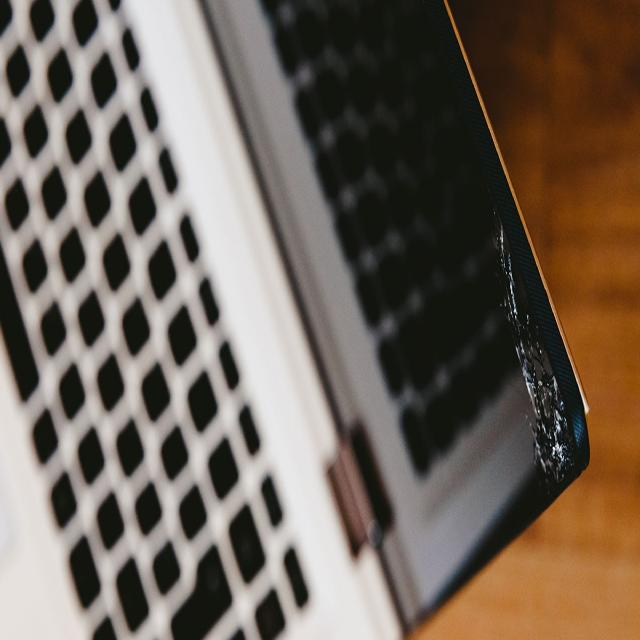electronics: (0, 0, 587, 638)
